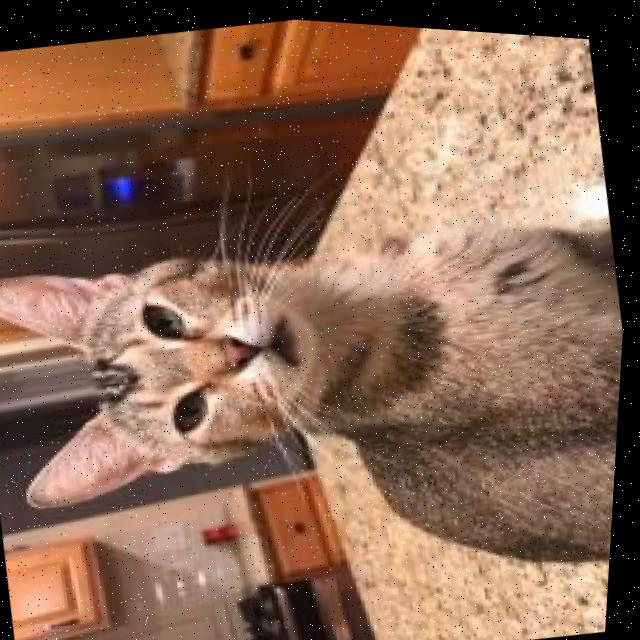Abyssinian: (0, 157, 633, 640)
